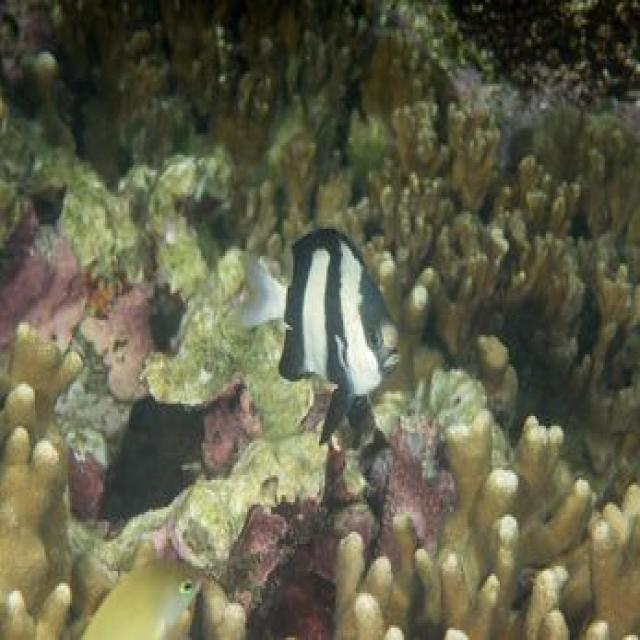ThreeStripedDamselfish: (243, 229, 398, 416)
